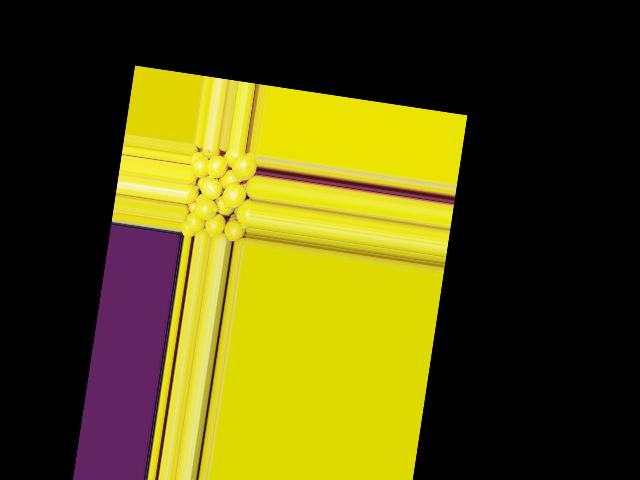lemon: (234, 199, 252, 231)
